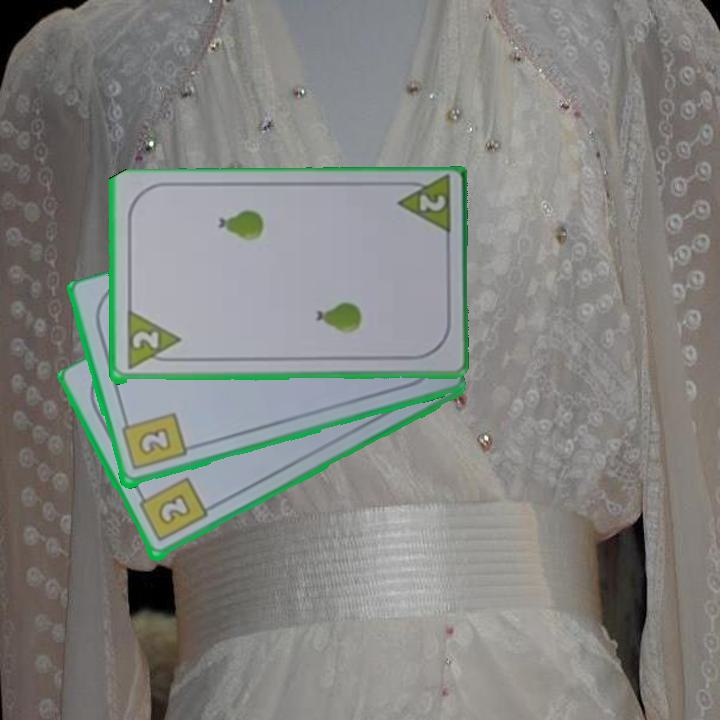2b: (134, 474, 210, 545), (117, 409, 189, 474)
2p: (128, 328, 161, 352), (415, 192, 448, 215)
